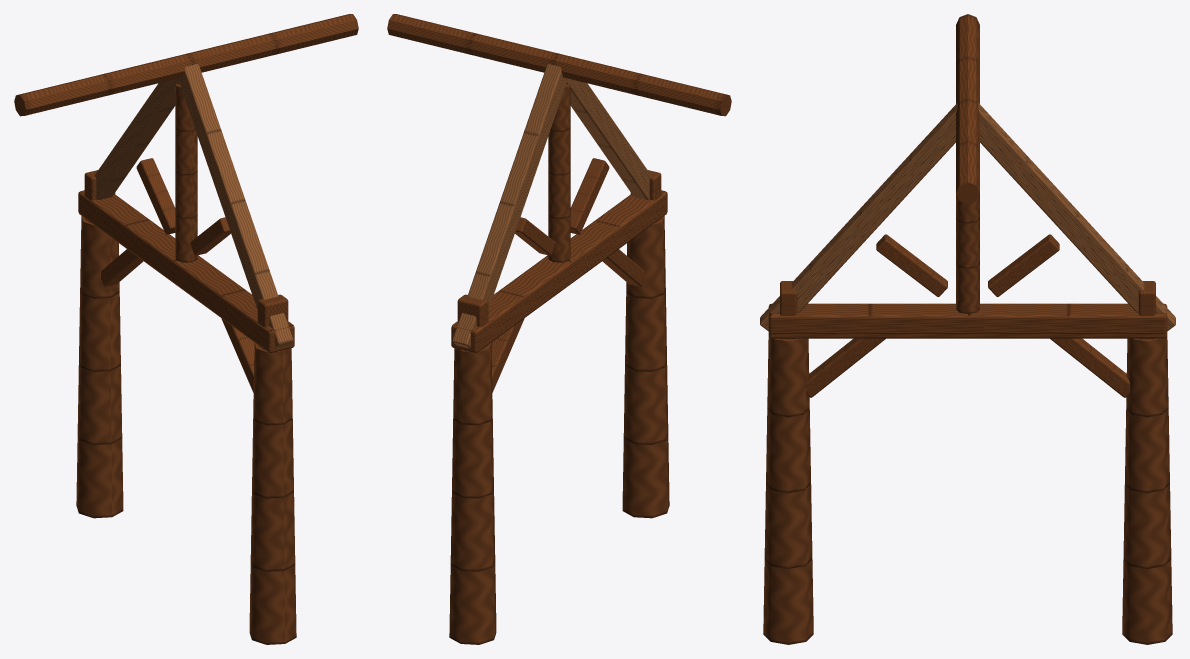
Rendered from viking-age-longhouse-and-longship-longhouse-post-and-b-87a7c054__30172.glb.
3 views of the same model, side by side, from view 1: azimuth 30°, elevation 25°; view 2: azimuth 150°, elevation 25°; view 3: azimuth 270°, elevation 25° (orthographic). The views are drawn at different scales.
Parts seen in each view (by area): view 1: longhouse-post-and-beam; view 2: longhouse-post-and-beam; view 3: longhouse-post-and-beam.
Part boxes in pixels (left/top/right/bottom): longhouse-post-and-beam: left=14, top=14, right=358, bottom=644; longhouse-post-and-beam: left=387, top=14, right=731, bottom=644; longhouse-post-and-beam: left=760, top=14, right=1175, bottom=644.
Bounding box in the file's own units: 3 × 4.45 × 3.13.
2 materials, 2 textured.
